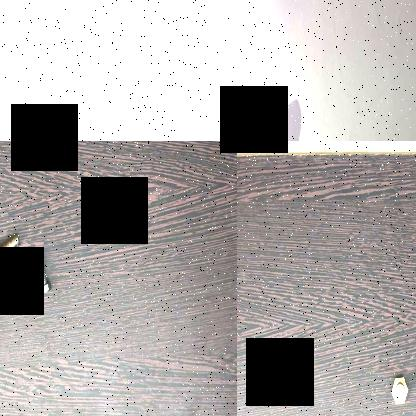Bolts: (31, 246, 51, 300), (0, 225, 19, 275), (390, 370, 408, 408)
